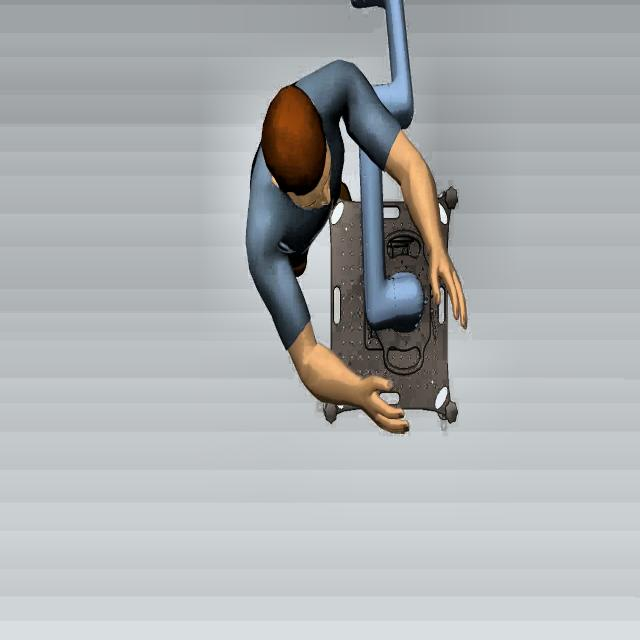robot: (342, 1, 432, 339)
